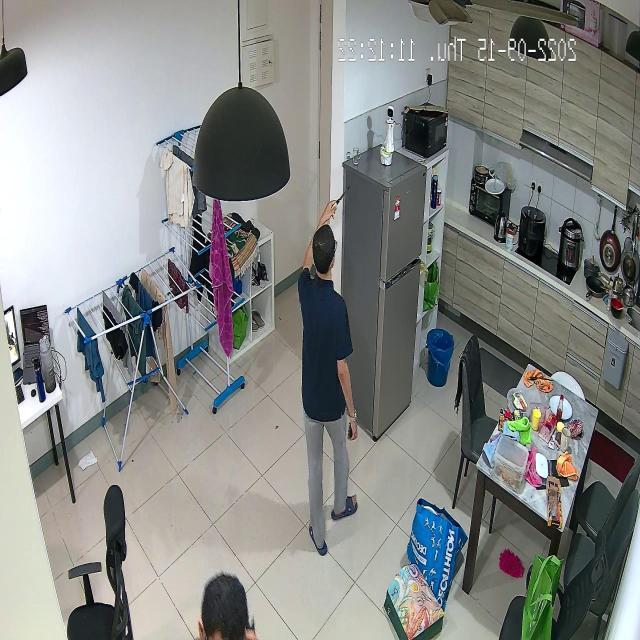Knife: (325, 179, 362, 214)
